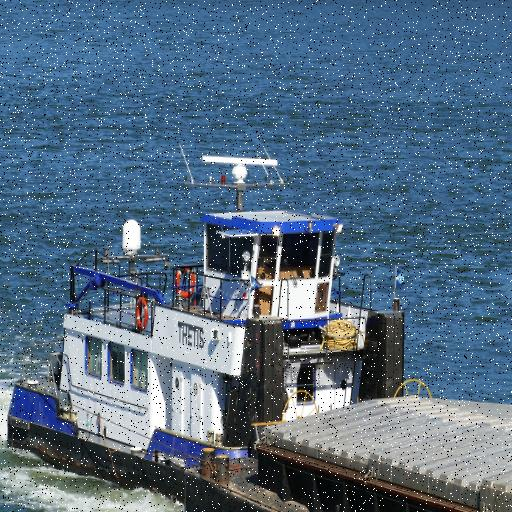tugboat: (6, 146, 407, 512)
